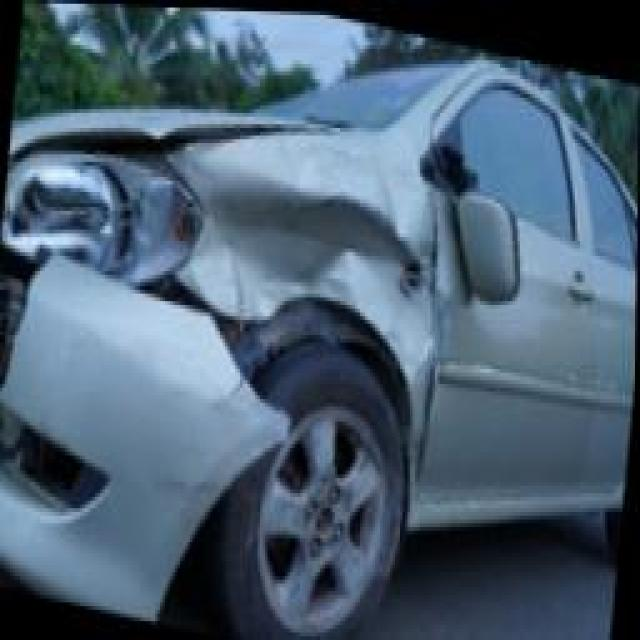Bumper: (0, 256, 287, 639)
Fender: (185, 120, 445, 382)
Light: (5, 124, 199, 297)
